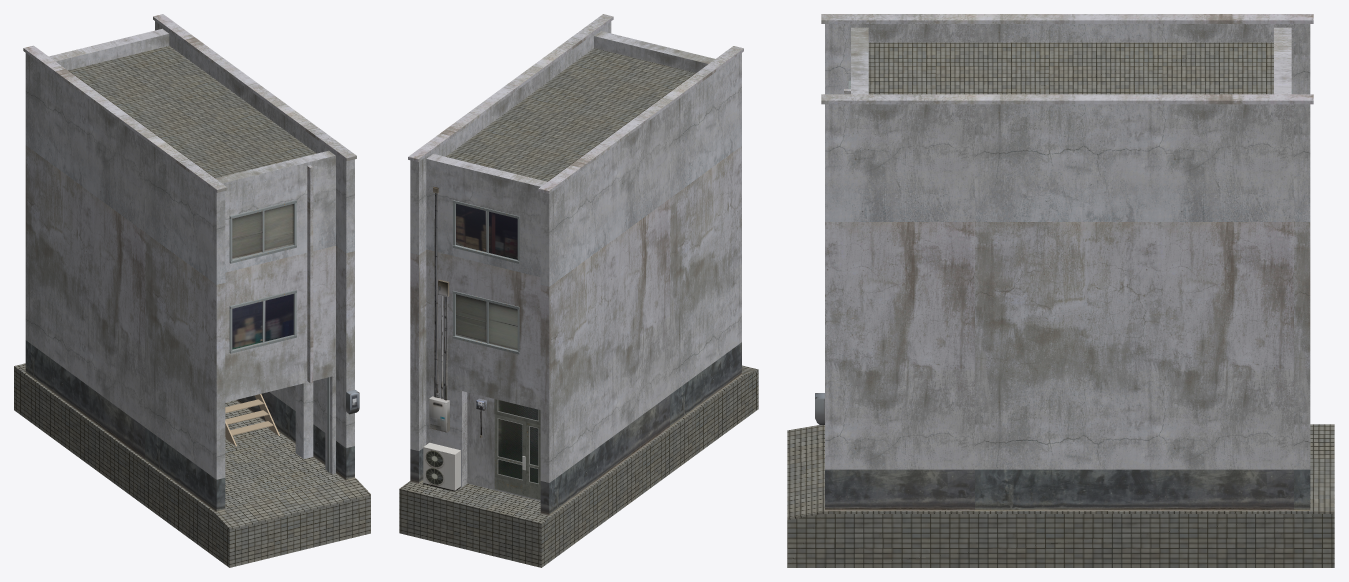
File: mallbil_s_b1a.fbx
3 renders of one model, left to right at view 1: azimuth 30°, elevation 25°; view 2: azimuth 150°, elevation 25°; view 3: azimuth 270°, elevation 25°, orthographic. The views are drawn at different scales.
Visible parts, largest first — view 1: mallbil_s_b1a; view 2: mallbil_s_b1a; view 3: mallbil_s_b1a.
Part boxes in pixels (bbox=[...]): mallbil_s_b1a: bbox=[14, 14, 370, 567]; mallbil_s_b1a: bbox=[399, 14, 758, 567]; mallbil_s_b1a: bbox=[787, 14, 1334, 567].
Size of the model in its own units: 433 by 1144 by 1077.
6 materials, 6 textured.
